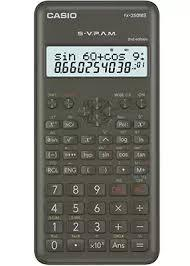Calculator: (30, 0, 168, 266)
